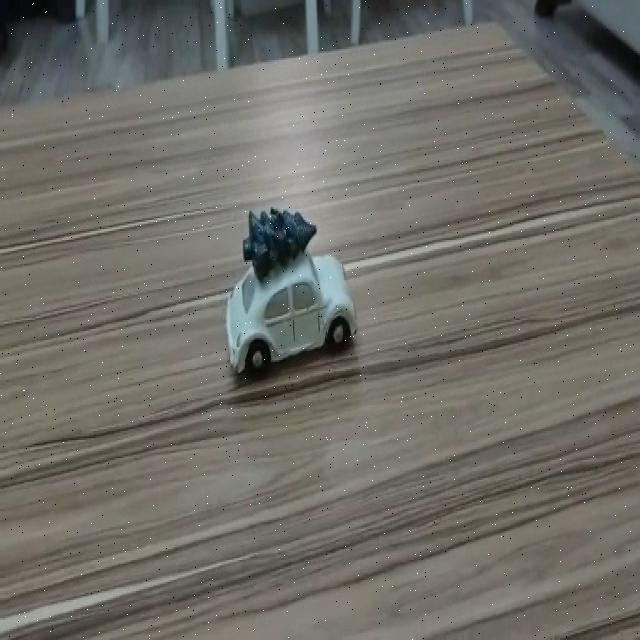car: (222, 250, 356, 370)
